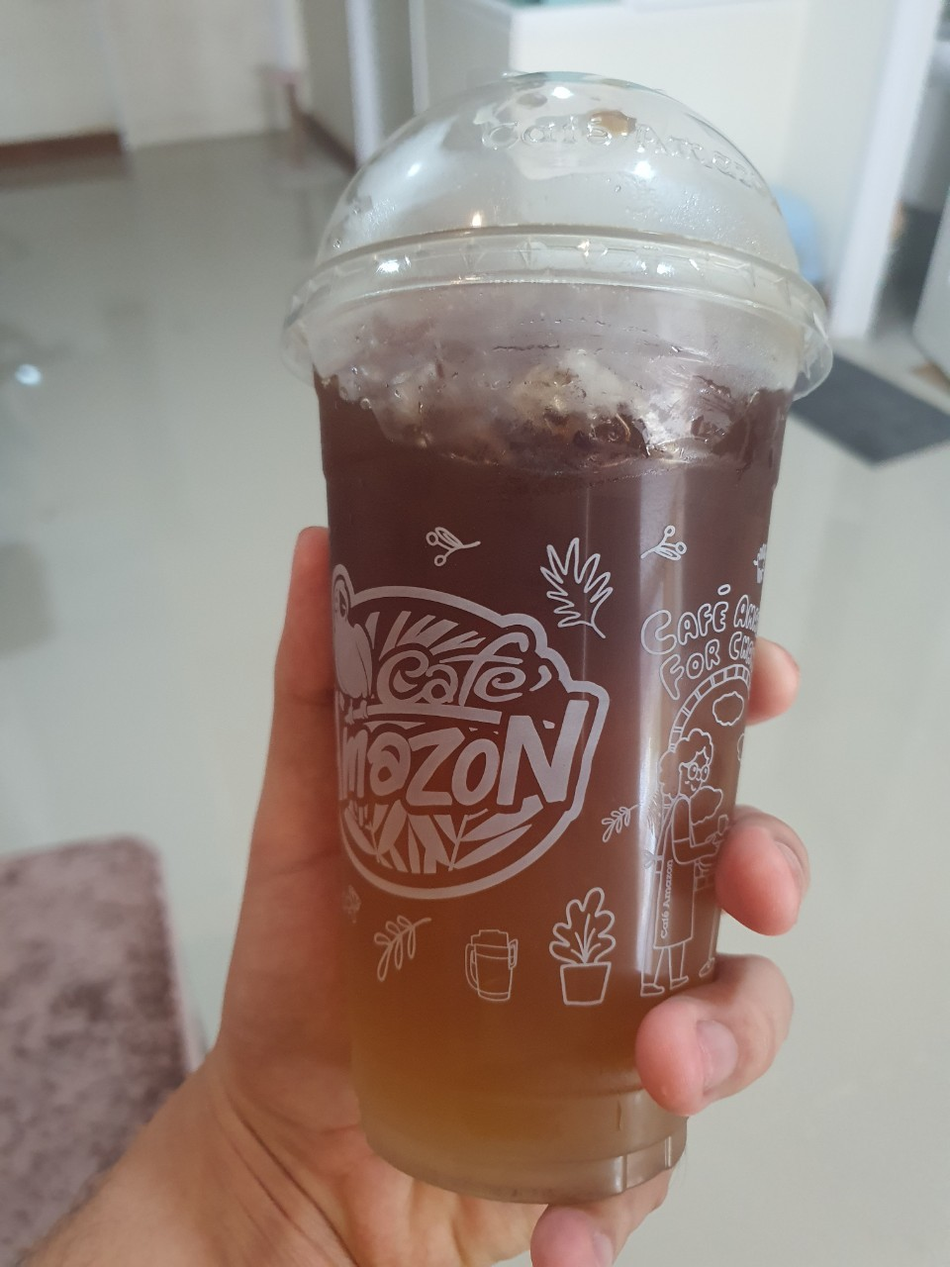plastic: (277, 49, 840, 1214)
